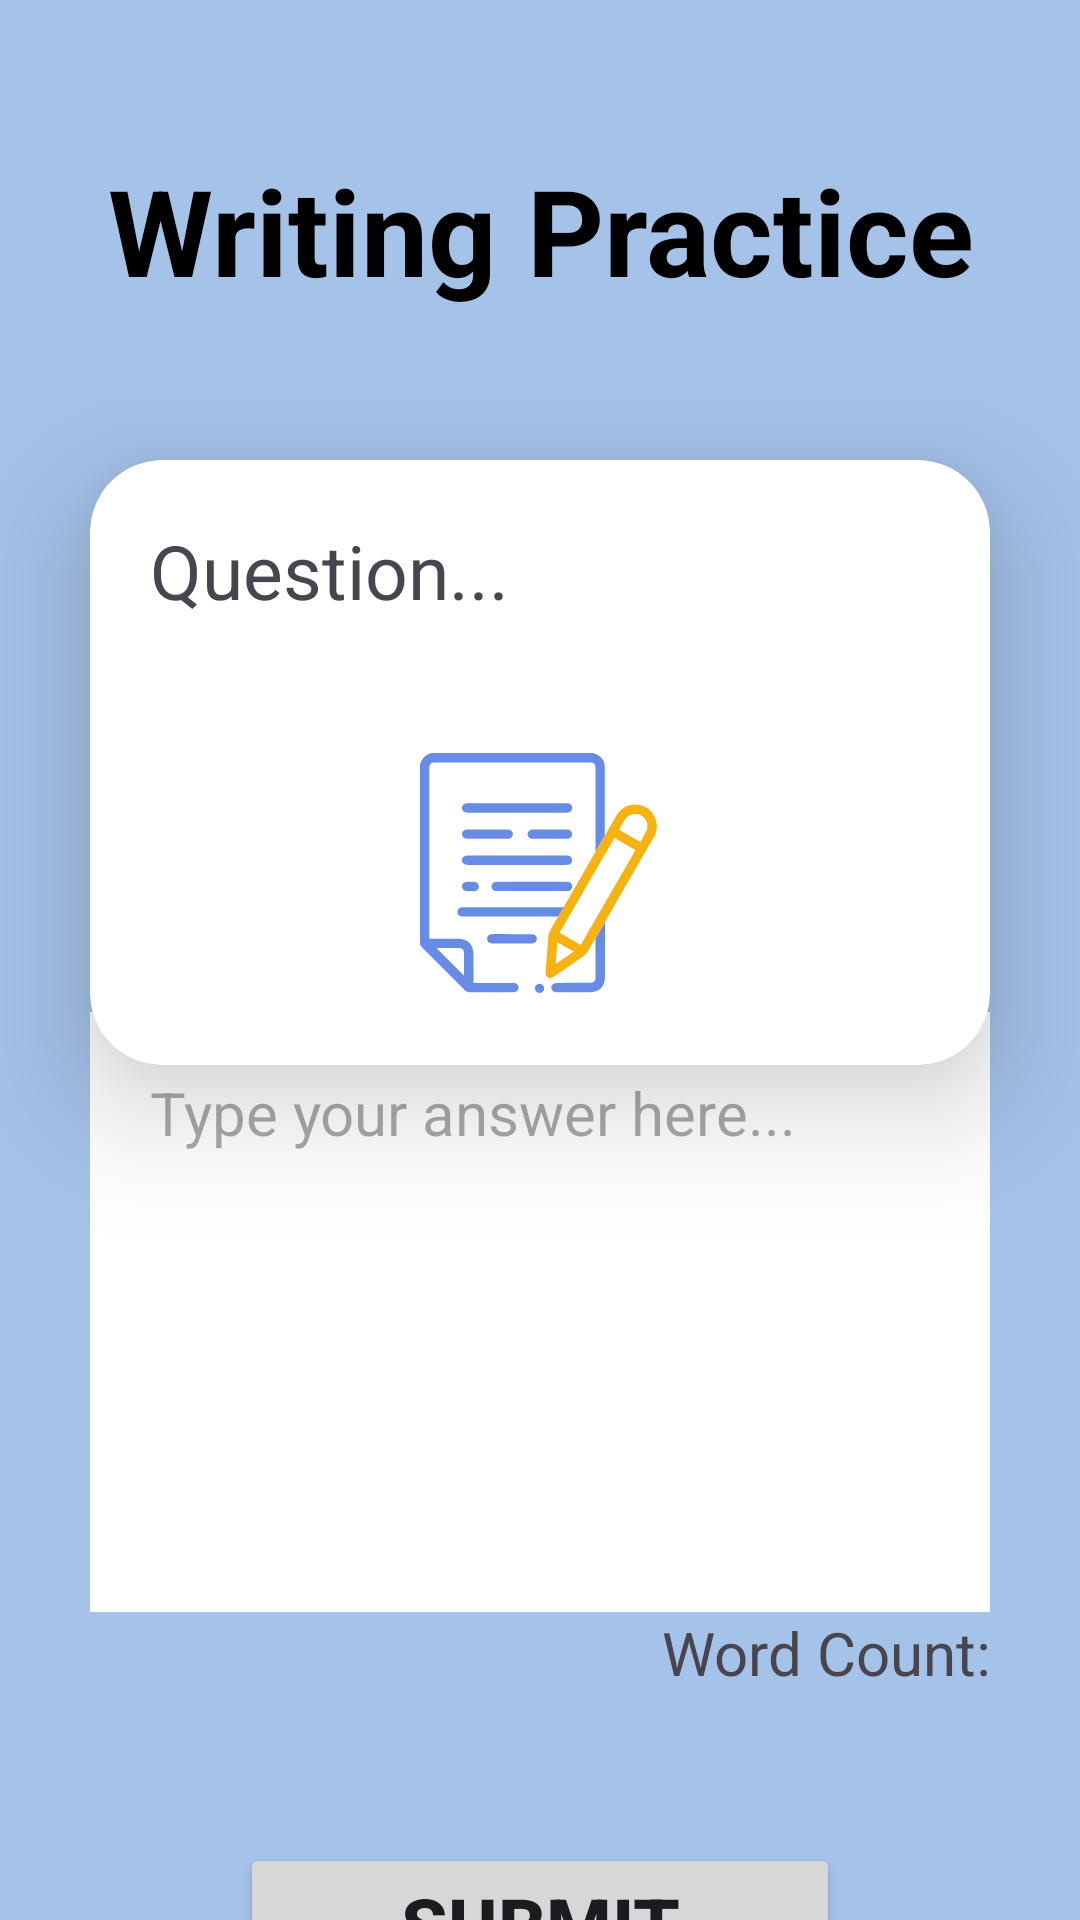

Point at icon controls on the screen. Image size 1080*1920, points as [x,y].
writing: [538,873]
